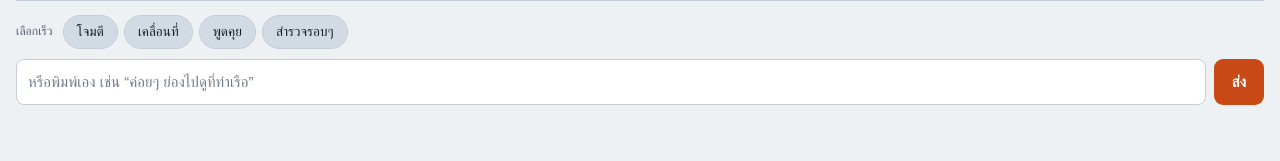
Test: ActionInput › submits a quick action and then disables further input
Click the button "โจมตี" at (90, 32), box [63,15,118,49]
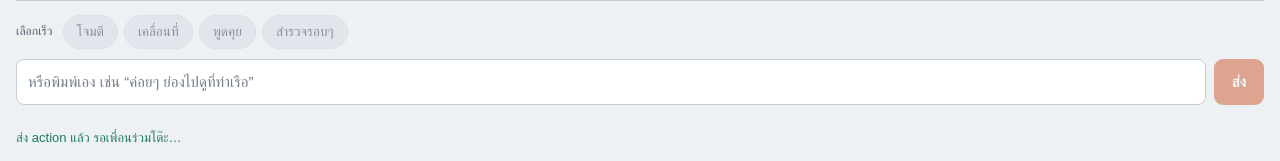
Expected: the text "ส่ง action แล้ว รอเพื่อนร่วมโต๊ะ…" is shown, [16,130,182,145]
Expected: the button "เคลื่อนที่" is disabled, [124,15,193,49]
